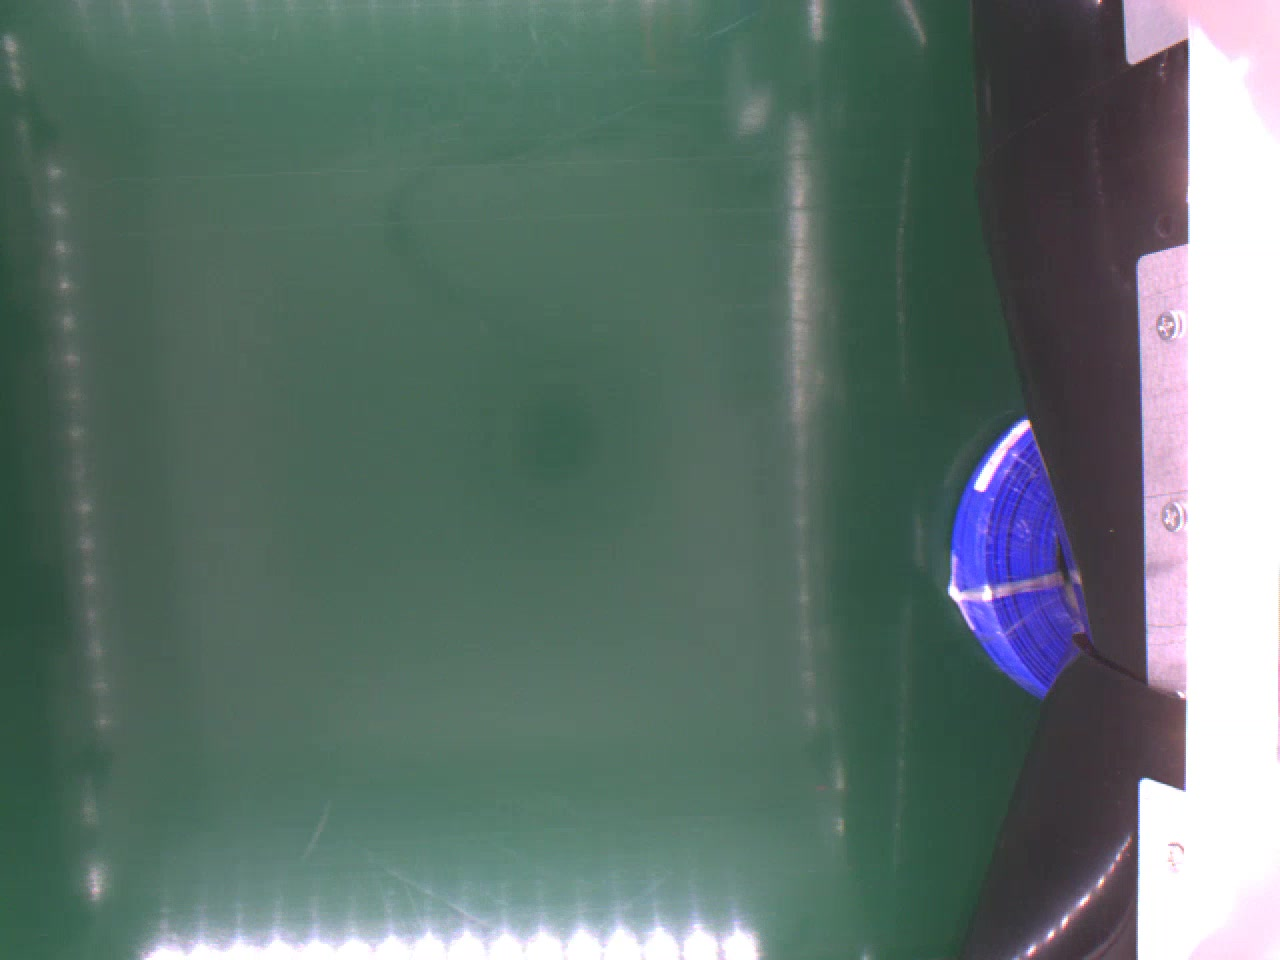blue: (943, 408, 1083, 702)
